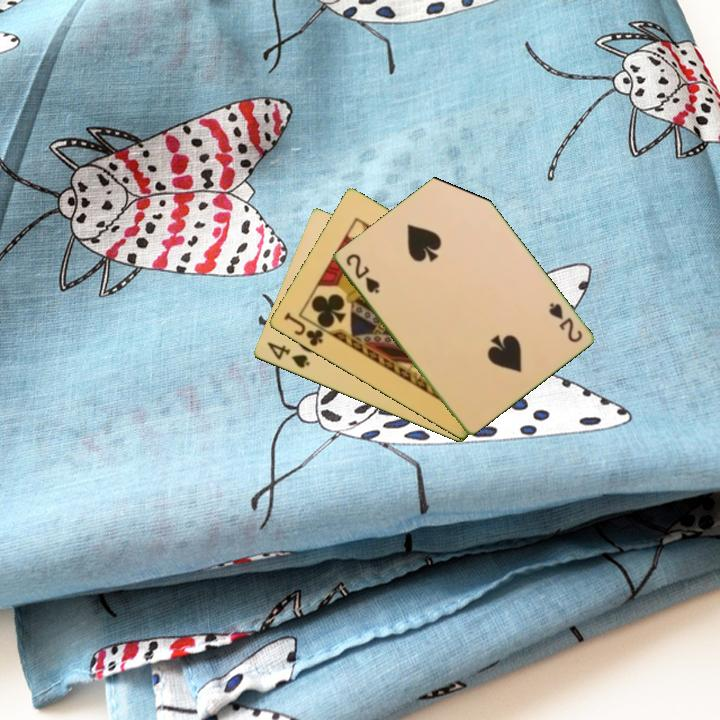2s: (342, 250, 382, 297), (545, 299, 585, 346)
4s: (263, 338, 312, 372)
Jc: (280, 308, 326, 350)
